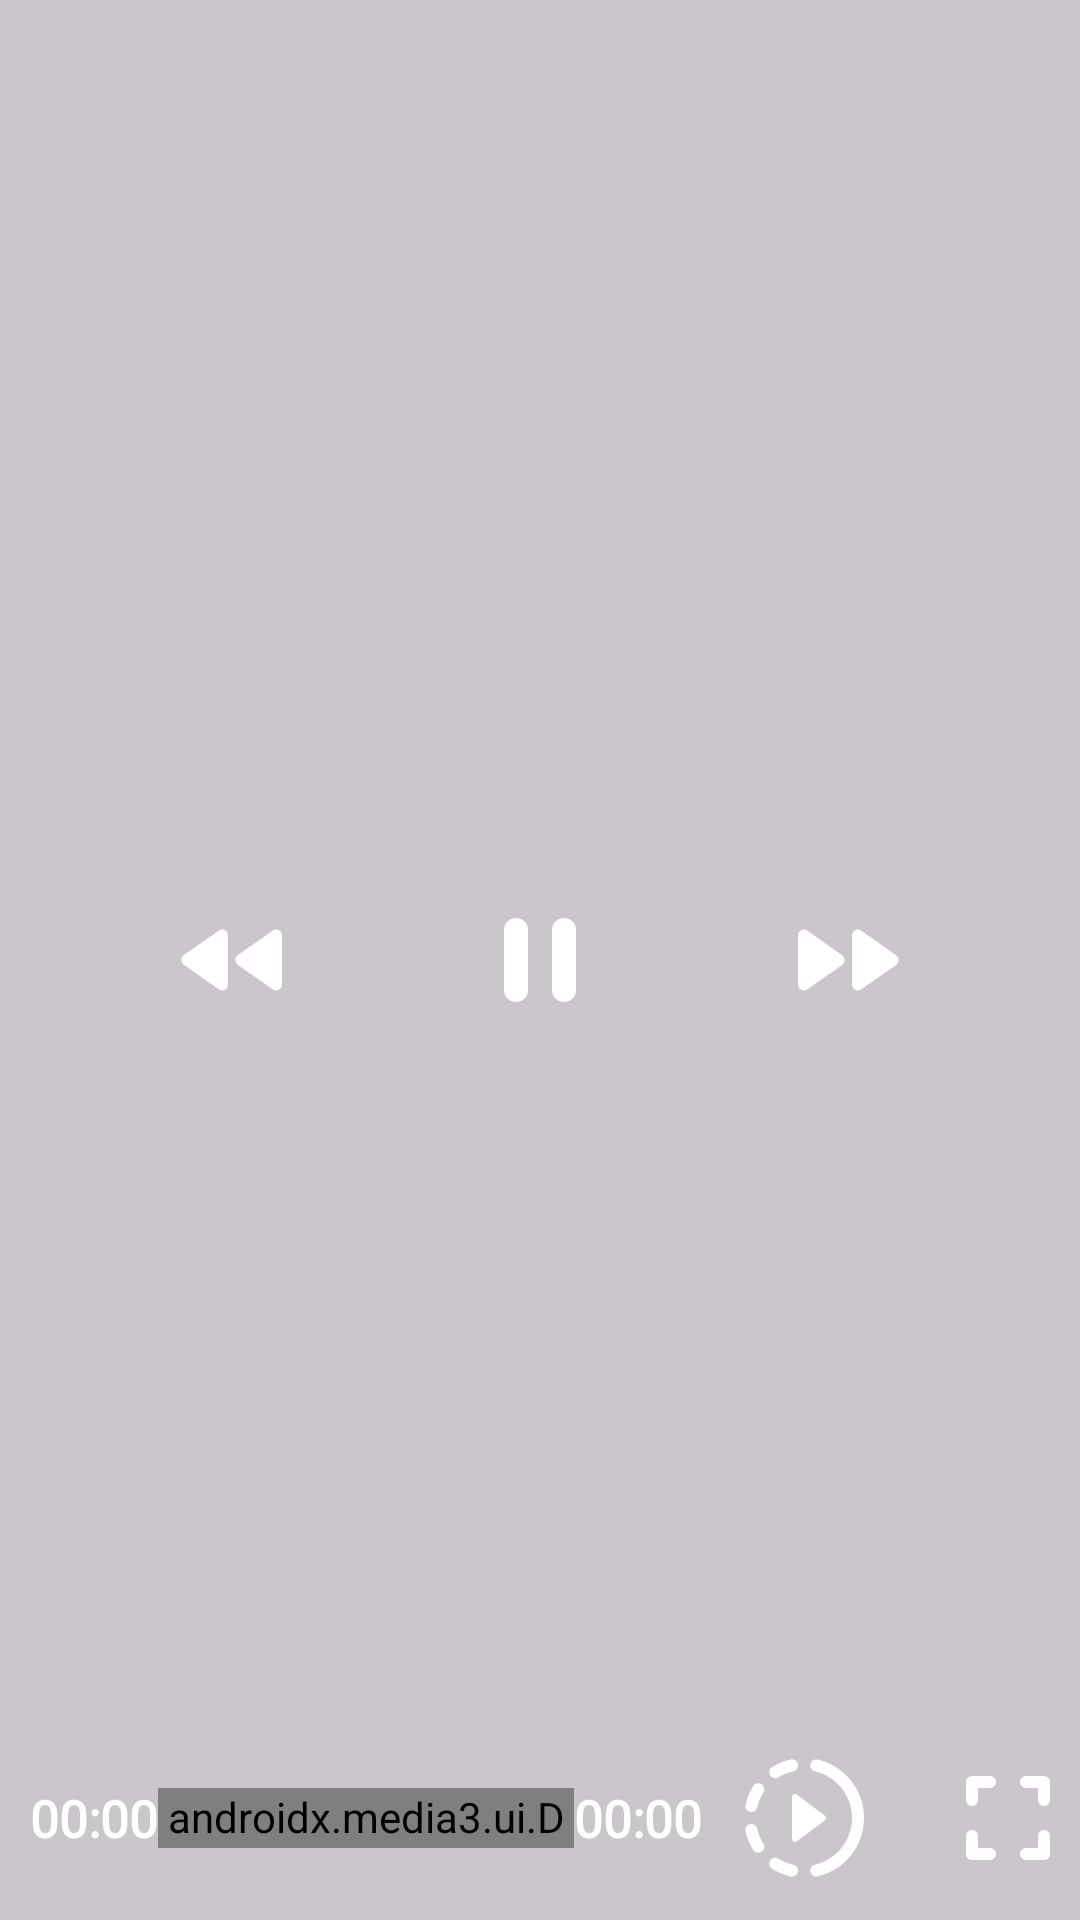

Named icons in this screenshot (1080*1920) and their bounding boxes, rect(x1, y1, x2, y2):
Image of Forward button: rect(798, 929, 899, 991)
Image of Fullscreen button: rect(966, 1776, 1050, 1860)
Image of Pause button: rect(504, 918, 576, 1002)
Image of Rewind button: rect(181, 929, 282, 991)
Image of Speed Control button: rect(745, 1759, 864, 1877)
